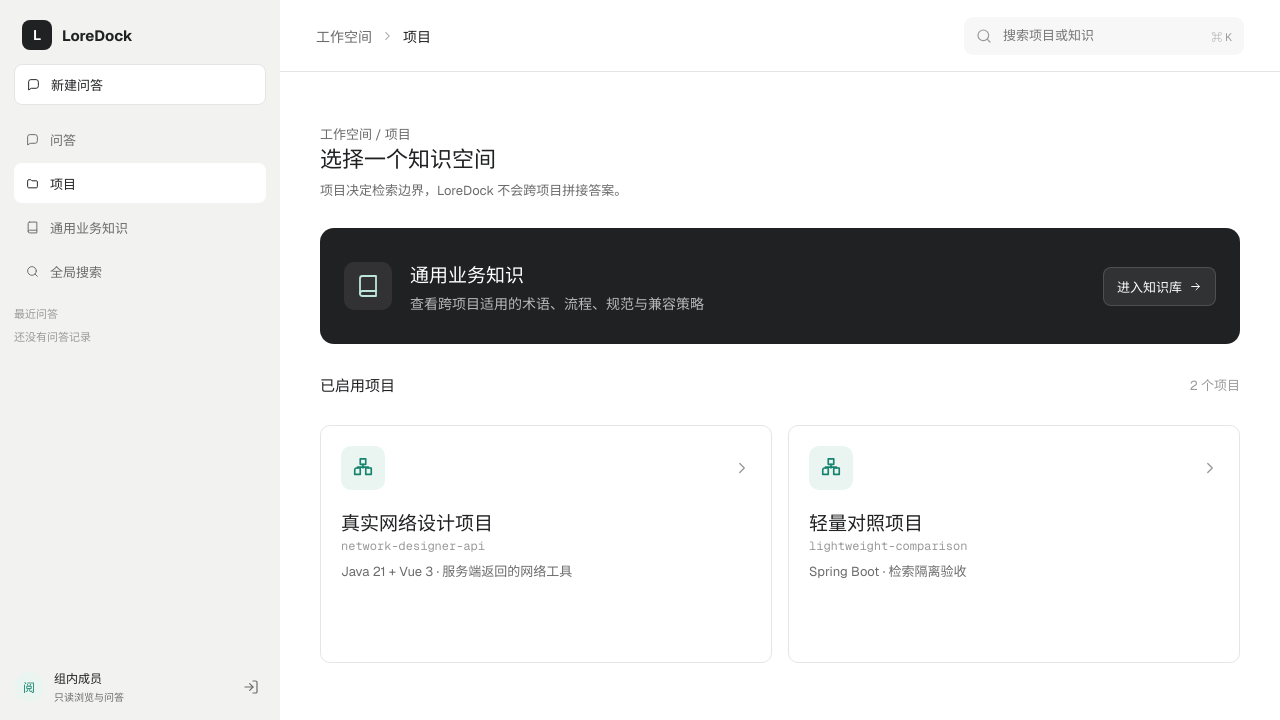
it: ProjectListView › filters the loaded project collection locally
In the search field with test id "project-filter": (1102, 36) [1001,26,1202,45], type "lightweight"
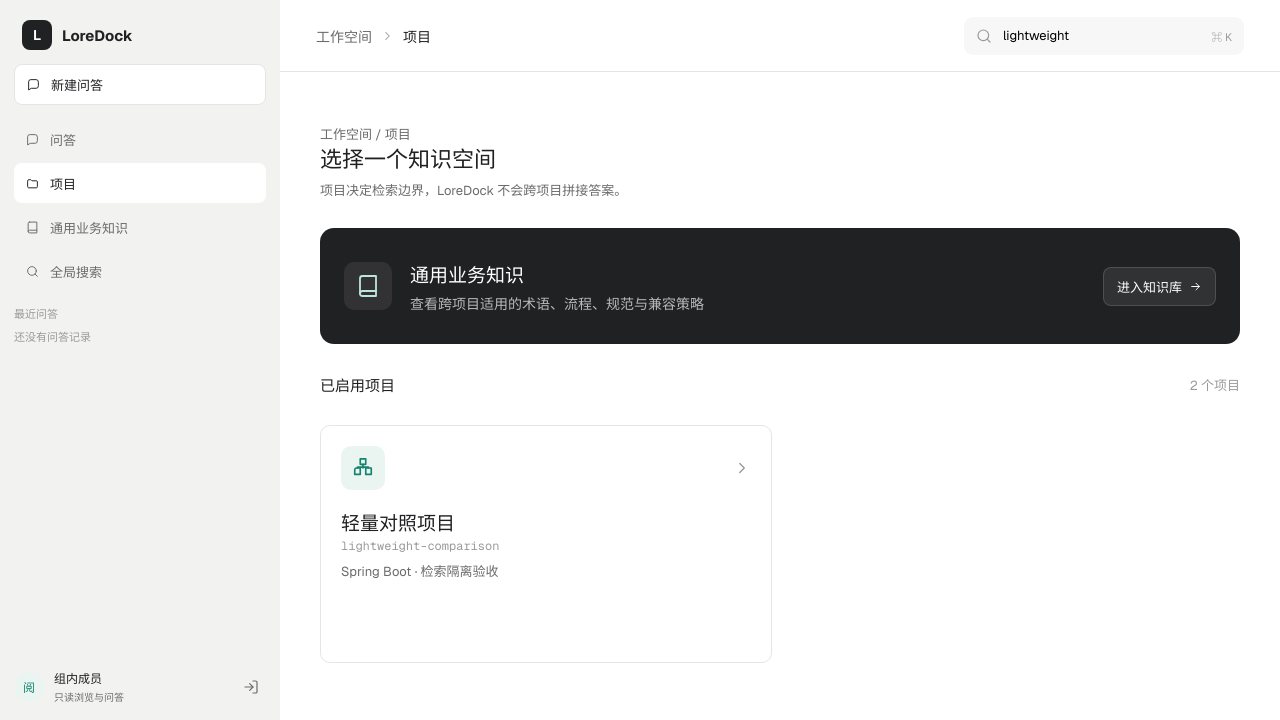
Expected: the text "轻量对照项目" is shown, [341,511,455,536]
Expected: the text "真实网络设计项目" is gone
